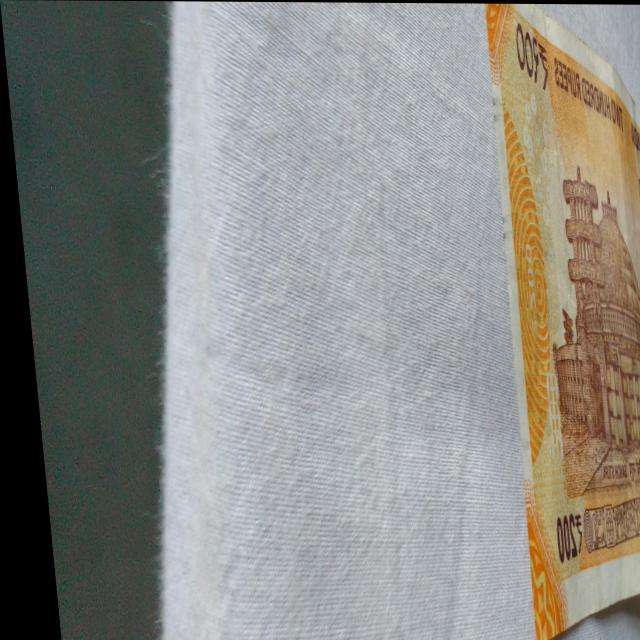Currency: (455, 23, 640, 630)
